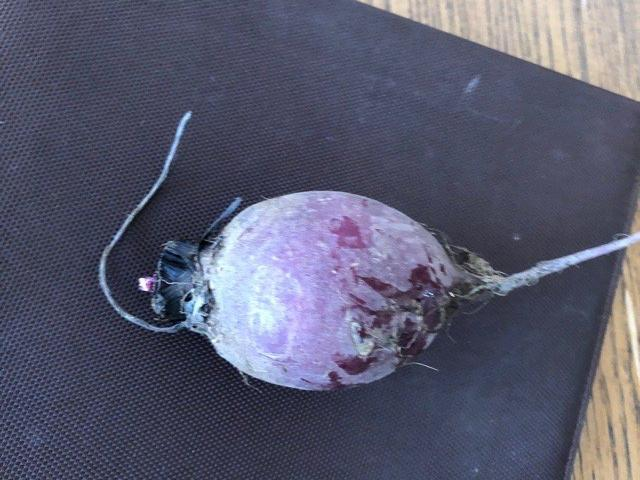beet: (98, 110, 640, 392)
